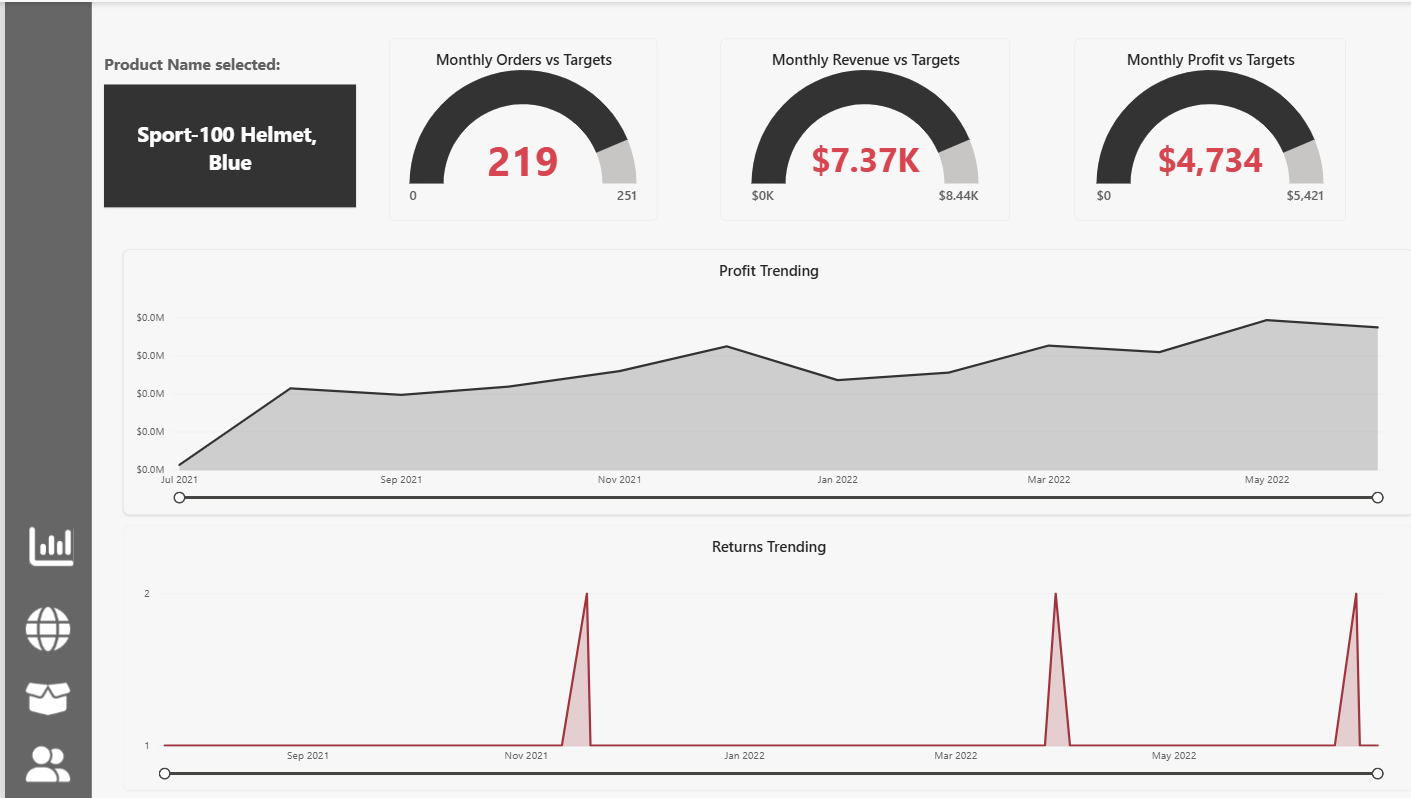

The page's visual inventory and layout, read from the dashboard file:
{"tool":"powerbi","page":{"name":"Product Detail","canvas":[1920,1080],"ordinal":2},"visuals":[{"type":"shape","box":[0,0,117.6,1080.7],"z":0},{"type":"actionButton","box":[8.2,693.4,109.5,85.2],"z":0,"group":"g1"},{"type":"gauge","title":"Monthly Orders vs Targets","fields":{"MaxValue":["Sales Data (Fact).Order Target"],"Y":["Sales Data (Fact).Total Orders"]},"box":[519.1,48.7,362.9,247.4],"z":1000},{"type":"actionButton","box":[8,986.5,99.4,85.2],"z":1000,"group":"g1"},{"type":"gauge","title":"Monthly Revenue vs Targets","fields":{"MaxValue":["Sales Data (Fact).Revenue Target"],"Y":["Sales Data (Fact).Total Revenue"]},"box":[967.2,48.7,391.3,247.4],"z":2000},{"type":"actionButton","box":[8,804,99.4,85.2],"z":2000,"group":"g1"},{"type":"gauge","title":"Monthly Profit vs Targets","fields":{"MaxValue":["Sales Data (Fact).Profit Target"],"Y":["Sales Data (Fact).Total Profit"]},"box":[1445.7,48.7,367,247.4],"z":3000},{"type":"actionButton","box":[4.1,885.9,107.5,111.5],"z":3000,"group":"g1"},{"type":"areaChart","title":"Profit Trending","fields":{"Category":["AdventureWorks Calendar Lookup.Date Hierarchy.year","AdventureWorks Calendar Lookup.Date Hierarchy.Start of month","AdventureWorks Calendar Lookup.Date Hierarchy.Start of Quarter","AdventureWorks Calendar Lookup.Date Hierarchy.Strat of the week","AdventureWorks Calendar Lookup.Date Hierarchy.Day"],"Y":["Sales Data (Fact).Total Profit"]},"box":[160.2,334.5,1743.7,358.9],"z":4000},{"type":"areaChart","title":"Returns Trending","fields":{"Category":["AdventureWorks Calendar Lookup.Date Hierarchy.year","AdventureWorks Calendar Lookup.Date Hierarchy.Start of month","AdventureWorks Calendar Lookup.Date Hierarchy.Start of Quarter","AdventureWorks Calendar Lookup.Date Hierarchy.Strat of the week","AdventureWorks Calendar Lookup.Date Hierarchy.Day"],"Y":["AdventureWorks Returns Data.Total returns"]},"box":[160.2,707.6,1743.7,358.9],"z":5000},{"type":"card","fields":{"Values":["Min(Product Lookup.ProductName)"]},"box":[133.8,111.5,340.6,166.3],"z":6000},{"type":"textbox","box":[133.8,68.9,241.3,42.6],"z":7000},{"type":"group","id":"g1","title":"Navigation buttons","box":[4.1,693.4,113.5,378.3],"z":7001}]}

Visuals, with their boxes on the page's 1920x1080 design canvas (x1, y1, x2, y2). These are canvas units, not pixel positions in the 1411x798 screenshot, which may show the page scaled, cropped or inside an application window:
shape: <bbox>0, 0, 118, 1081</bbox>
actionButton: <bbox>8, 693, 118, 779</bbox>
"Monthly Orders vs Targets" gauge: <bbox>519, 49, 882, 296</bbox>
actionButton: <bbox>8, 986, 107, 1072</bbox>
"Monthly Revenue vs Targets" gauge: <bbox>967, 49, 1358, 296</bbox>
actionButton: <bbox>8, 804, 107, 889</bbox>
"Monthly Profit vs Targets" gauge: <bbox>1446, 49, 1813, 296</bbox>
actionButton: <bbox>4, 886, 112, 997</bbox>
"Profit Trending" areaChart: <bbox>160, 334, 1904, 693</bbox>
"Returns Trending" areaChart: <bbox>160, 708, 1904, 1066</bbox>
card - Min(Product Lookup.ProductName): <bbox>134, 112, 474, 278</bbox>
textbox: <bbox>134, 69, 375, 112</bbox>
"Navigation buttons" group: <bbox>4, 693, 118, 1072</bbox>
